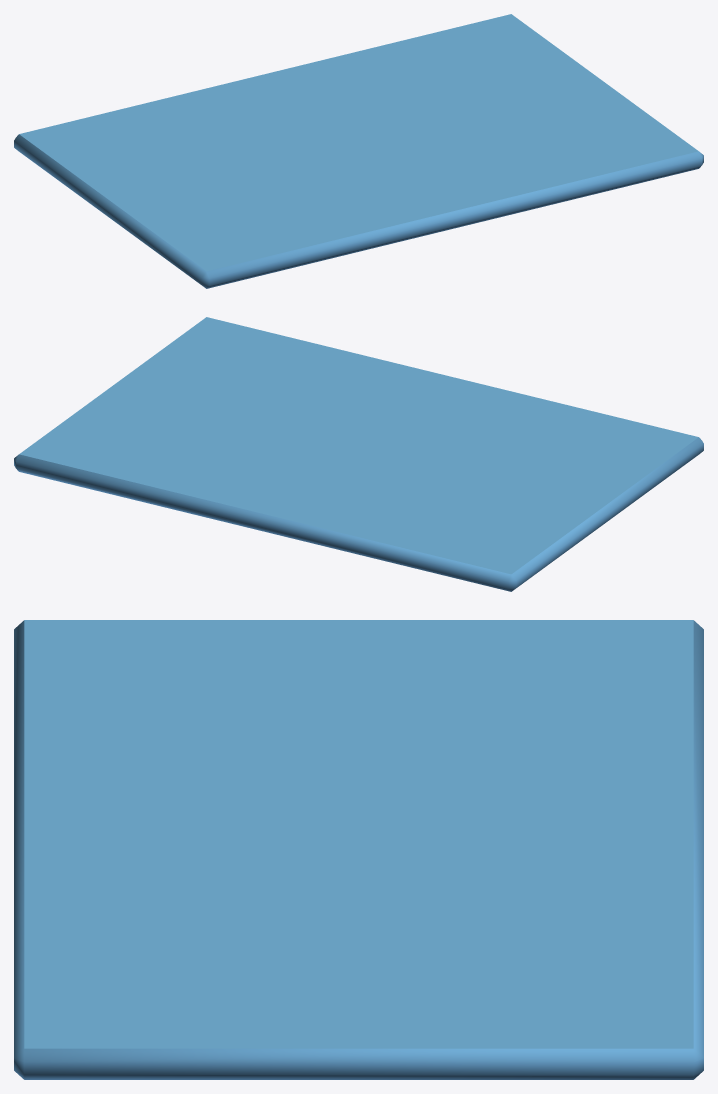
File: rug-rectangle-b.glb
The picture shows the model from 3 angles, top to bottom: view 1: azimuth 30°, elevation 25°; view 2: azimuth 150°, elevation 25°; view 3: azimuth 270°, elevation 25°; orthographic projection. The views are drawn at different scales.
Visible parts, largest first — view 1: rug_rectangle_B; view 2: rug_rectangle_B; view 3: rug_rectangle_B.
Boxes of the visible parts, <box> form: rug_rectangle_B: <box>14,14,703,288</box>; rug_rectangle_B: <box>14,317,703,591</box>; rug_rectangle_B: <box>14,620,703,1079</box>.
Size of the model in its own units: 3 by 0.1 by 2.
1 material, 1 textured.
